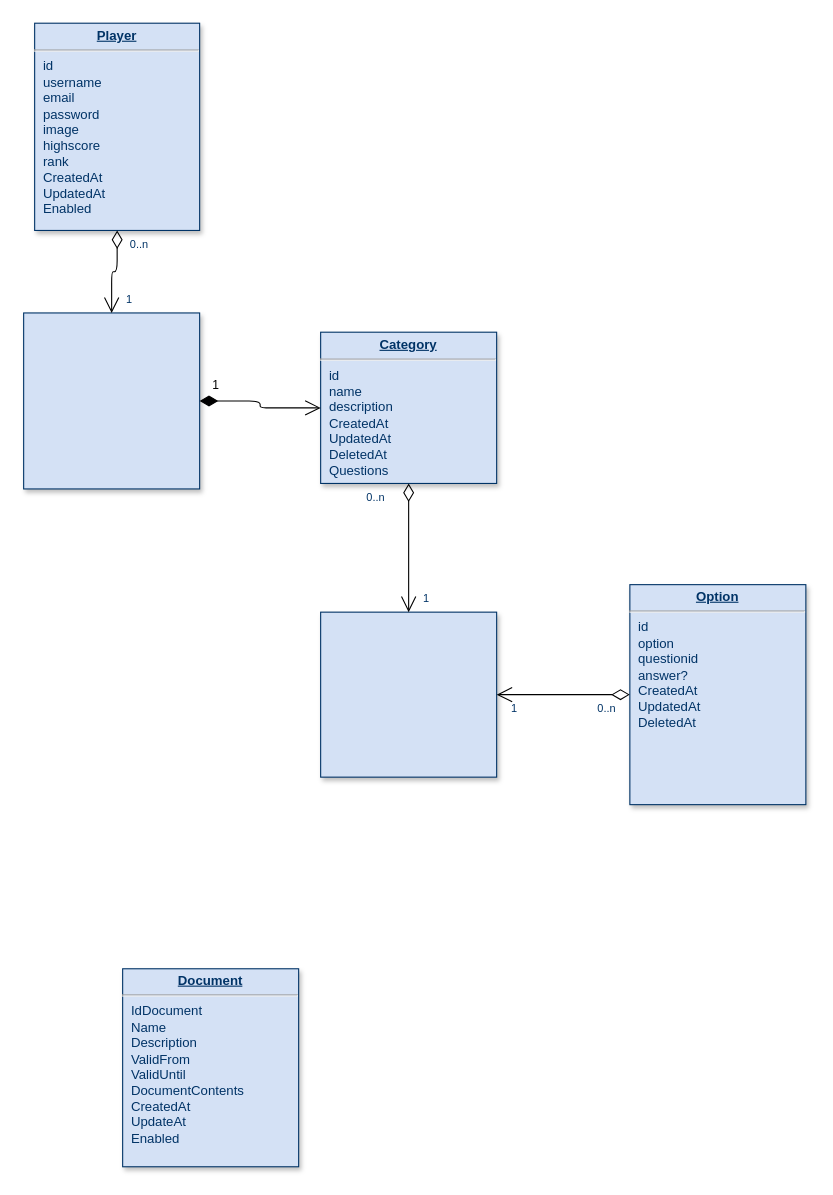
This 833x1195 diagram has some shape labels left out. The shapes that lost their labels are listed below. From the top down, each one's centre as x and y in pixels, then its label:
At pixel 112 402: "Game id score startedAt endedAt".
At pixel 409 696: "Question id question Options CreatedAt UpdatedAt DeletedAt categoryId".
